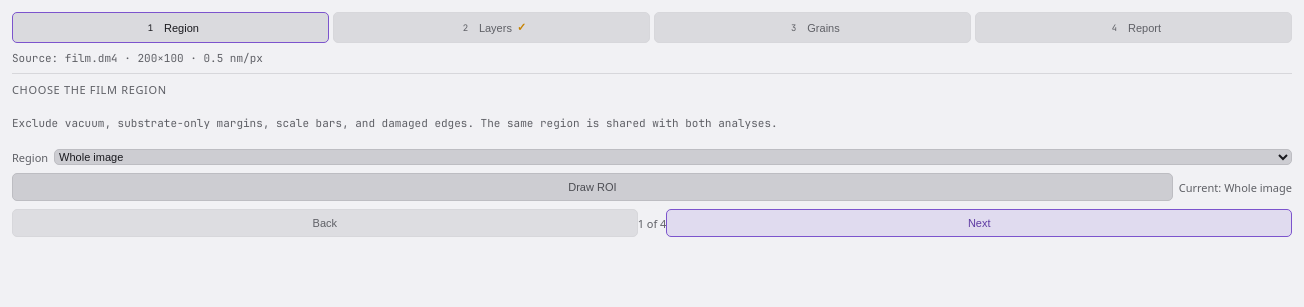
Test: CrossSectionGuide › offers the layer table and the profile it was measured from
Click the button "4 Report": [1134, 28] box [975,12,1292,43]
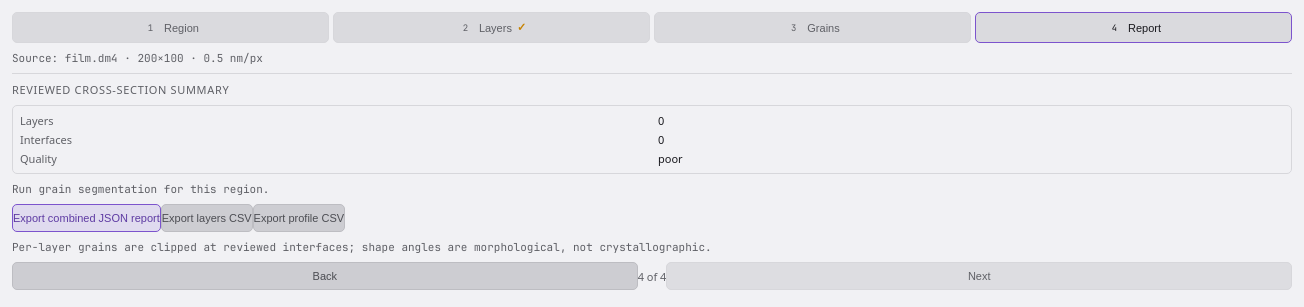
Result: the button "Export layers CSV" is enabled at [161,204,253,232]
Result: the button "Export profile CSV" is enabled at [253,204,345,232]
